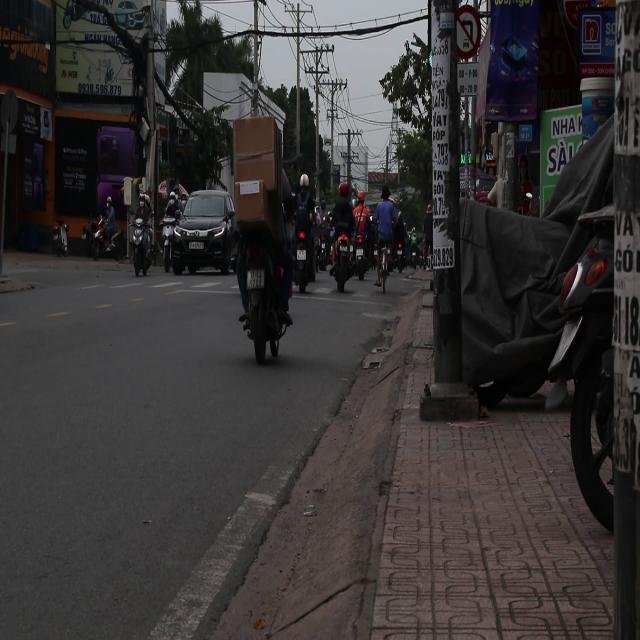car: (165, 192, 237, 274)
motorbike: (239, 281, 292, 364), (291, 174, 322, 288), (128, 193, 157, 276), (328, 218, 360, 292), (83, 218, 124, 262)
